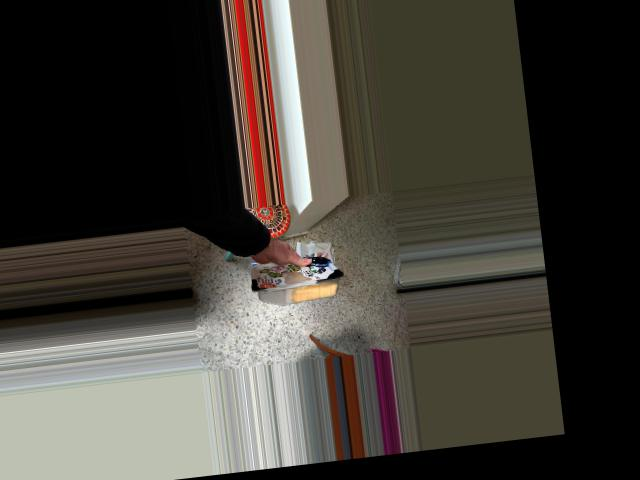cheese: (235, 230, 352, 333)
